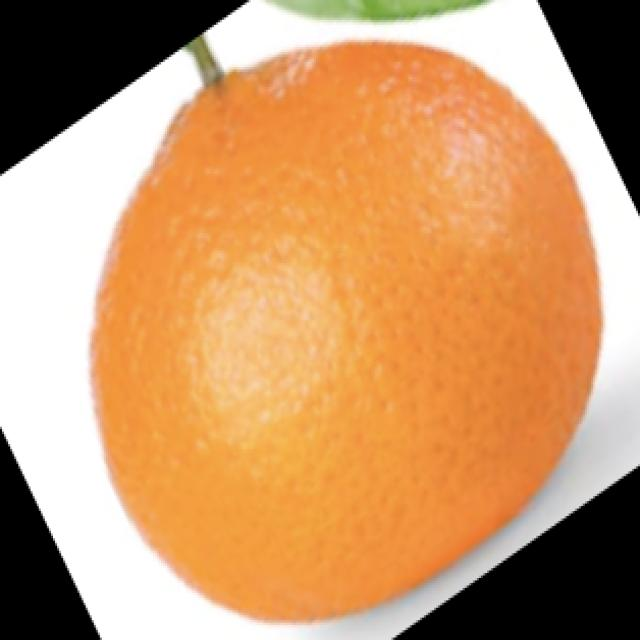matang: (85, 44, 605, 617)
